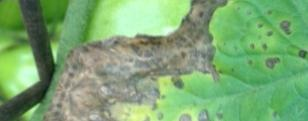Tomato Septoria leaf spot: (7, 0, 308, 121)
